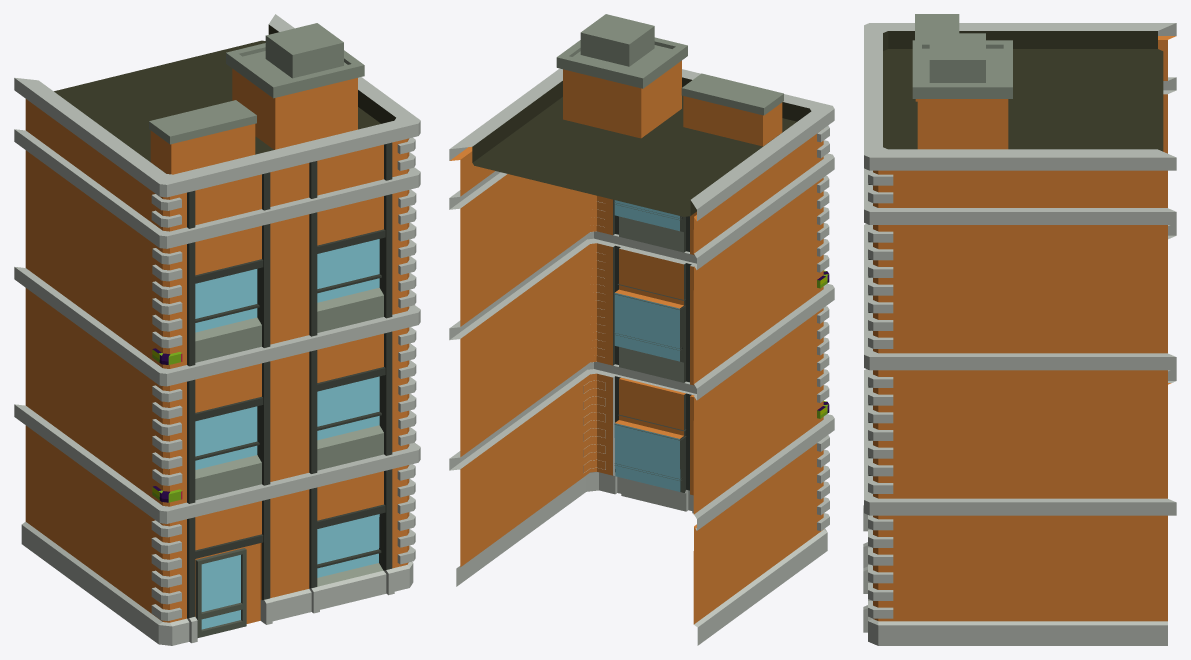
The model's file is House6.2.fbx.
3 renders of one model, left to right at view 1: azimuth 30°, elevation 25°; view 2: azimuth 150°, elevation 25°; view 3: azimuth 270°, elevation 25°, orthographic. The views are drawn at different scales.
Parts seen in each view (by area): view 1: House2.004; view 2: House2.004; view 3: House2.004.
Boxes of the visible parts, x1,y1,x2,y2 form: House2.004: (14,14,420,645); House2.004: (449,14,834,645); House2.004: (863,14,1176,645).
Size of the model in its own units: 795 by 1550 by 782.
Materials: 1 (1 with a texture image).
